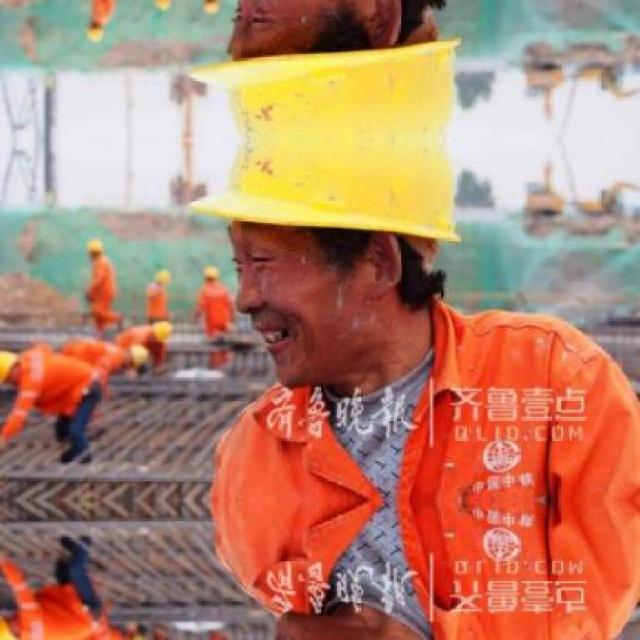helmet: (194, 139, 489, 399), (194, 0, 491, 138), (1, 342, 27, 381), (148, 316, 174, 346), (118, 343, 150, 365), (0, 616, 28, 638), (117, 632, 151, 638)
